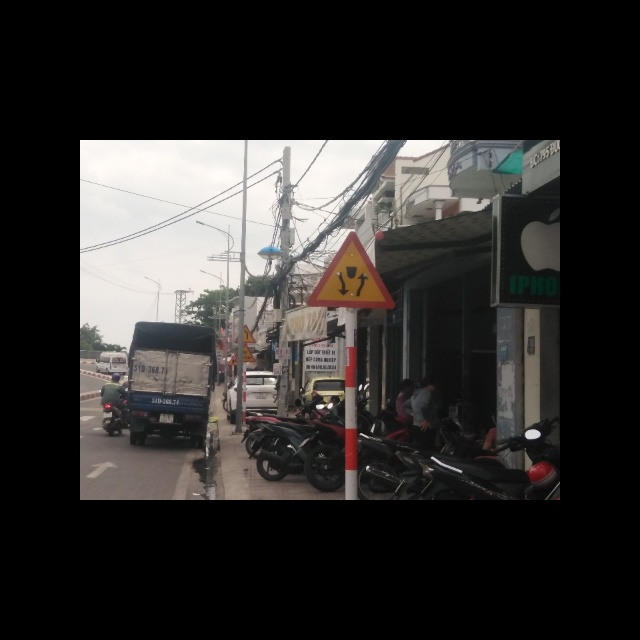Đường đôi: (305, 231, 397, 308)
